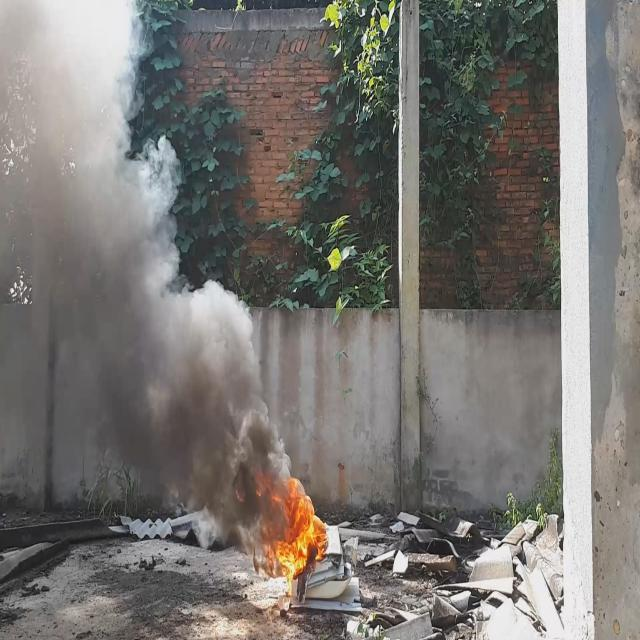Fire: (262, 463, 332, 603)
Smoke: (0, 0, 289, 542)
